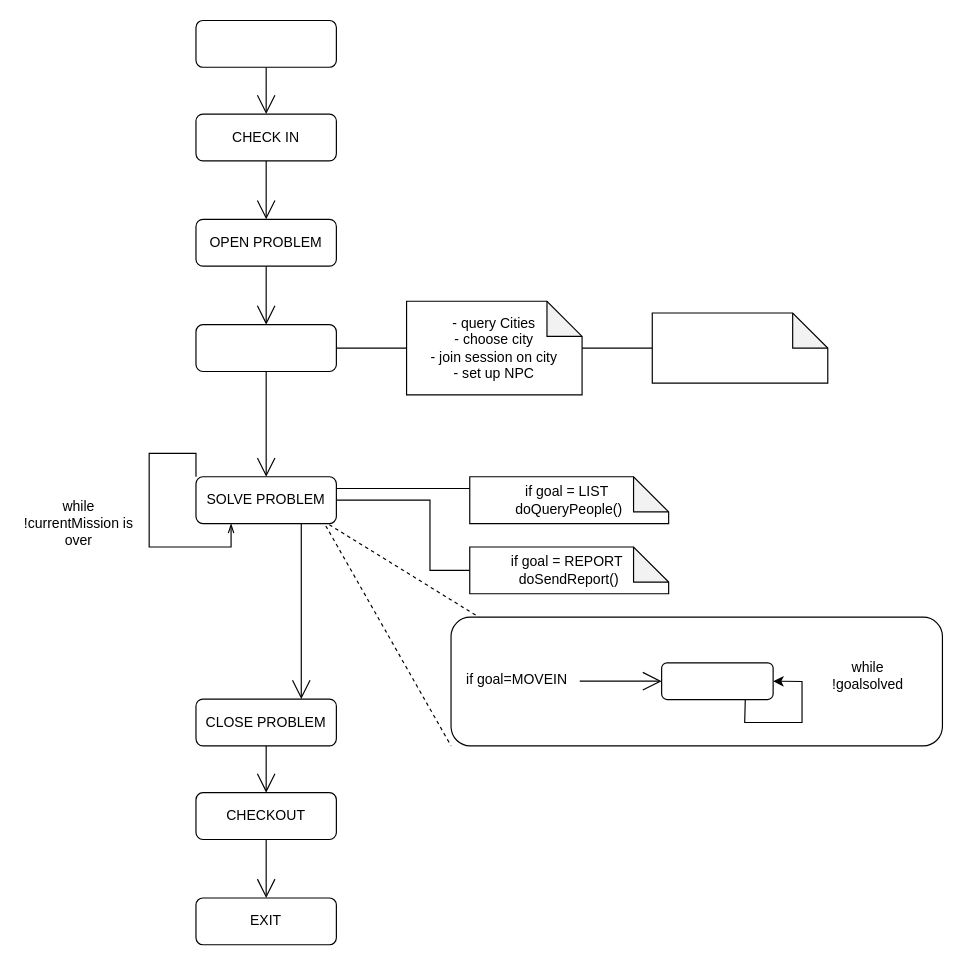
Image size: 963x965. Some labels were removed from this diagram. Here are the shapes that lost their labels. From the top down, the centre of each, then its label:
At point (265, 43): "START".
At point (265, 347): "JOIN SESSION".
At point (739, 347): "- query missions - choose mission".
At point (716, 681): "SOLVE GOAL".
